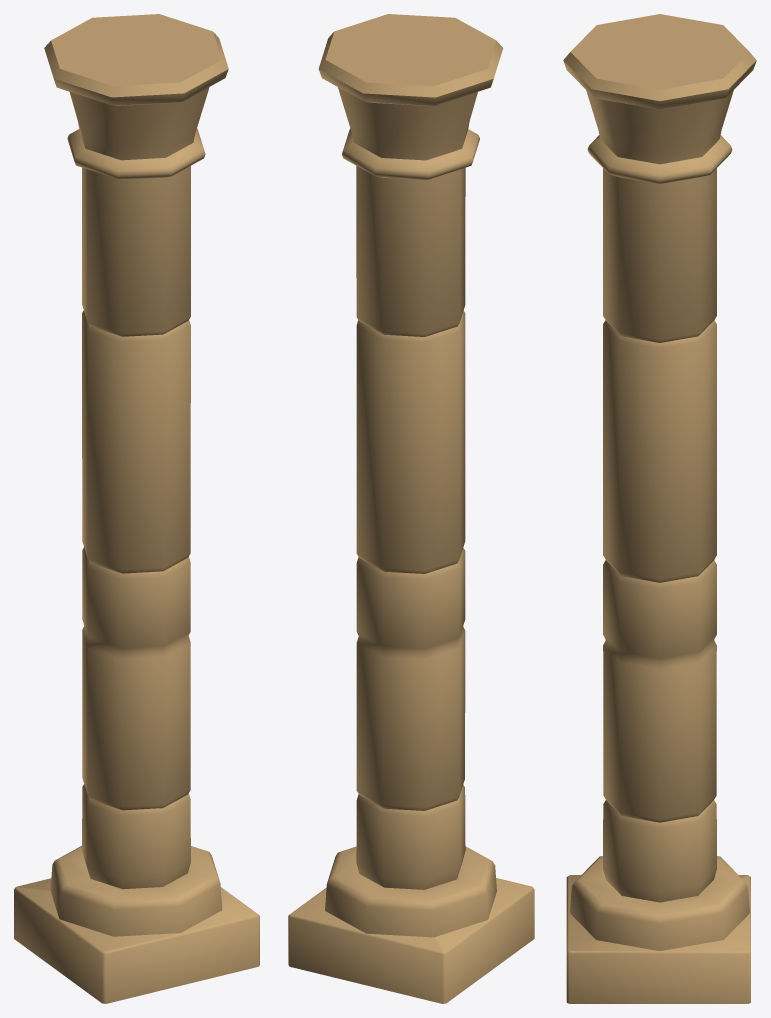
File: PillarStraight.fbx
The picture shows the model from 3 angles, left to right: view 1: azimuth 30°, elevation 25°; view 2: azimuth 150°, elevation 25°; view 3: azimuth 270°, elevation 25°; orthographic projection.
Parts seen in each view (by area): view 1: Cube.017; view 2: Cube.017; view 3: Cube.017.
Boxes of the visible parts, x1,y1,x2,y2 form: Cube.017: (14,14,259,1003); Cube.017: (288,14,534,1003); Cube.017: (563,14,756,1003).
Bounding box in the file's own units: 210 × 1093 × 210.
